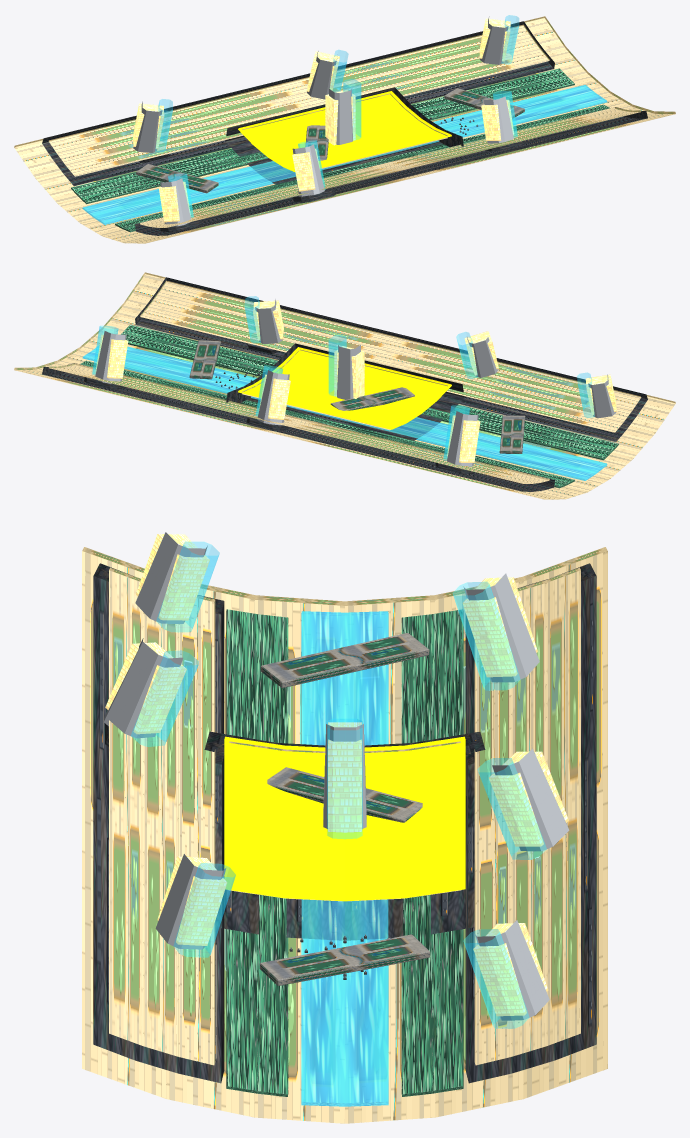
Rendered from valley_a_civic_acropolis_terraces.glb.
3 views of the same model, one above another, from view 1: azimuth 30°, elevation 25°; view 2: azimuth 150°, elevation 25°; view 3: azimuth 270°, elevation 25° (orthographic). The views are drawn at different scales.
Parts seen in each view (by area): view 1: ValleyA_CivicAcropolis_promenade_paving, ValleyA_CivicAcropolis_cliff_basalt, ValleyA_CivicAcropolis_biome_canopy, ValleyA_CivicAcropolis_led_amber, ValleyA_CivicAcropolis_water_river, ValleyA_CivicAcropolis_aero_white, ValleyA_CivicAcropolis_window_warm_amber, ValleyA_CivicAcropolis_glass_cyan, ValleyA_CivicAcropolis_copper_bridge; view 2: ValleyA_CivicAcropolis_promenade_paving, ValleyA_CivicAcropolis_cliff_basalt, ValleyA_CivicAcropolis_biome_canopy, ValleyA_CivicAcropolis_led_amber, ValleyA_CivicAcropolis_water_river, ValleyA_CivicAcropolis_aero_white, ValleyA_CivicAcropolis_window_warm_amber, ValleyA_CivicAcropolis_glass_cyan, ValleyA_CivicAcropolis_copper_bridge; view 3: ValleyA_CivicAcropolis_promenade_paving, ValleyA_CivicAcropolis_cliff_basalt, ValleyA_CivicAcropolis_biome_canopy, ValleyA_CivicAcropolis_led_amber, ValleyA_CivicAcropolis_glass_cyan, ValleyA_CivicAcropolis_water_river, ValleyA_CivicAcropolis_window_warm_amber, ValleyA_CivicAcropolis_aero_white, ValleyA_CivicAcropolis_copper_bridge.
Boxes of the visible parts, x1,y1,x2,y2 form: ValleyA_CivicAcropolis_promenade_paving: (14,16,675,243); ValleyA_CivicAcropolis_cliff_basalt: (42,21,647,235); ValleyA_CivicAcropolis_biome_canopy: (71,68,609,232); ValleyA_CivicAcropolis_led_amber: (238,91,451,171); ValleyA_CivicAcropolis_water_river: (82,85,607,224); ValleyA_CivicAcropolis_aero_white: (133,16,513,226); ValleyA_CivicAcropolis_window_warm_amber: (133,18,514,222); ValleyA_CivicAcropolis_glass_cyan: (155,15,518,217); ValleyA_CivicAcropolis_copper_bridge: (136,88,524,193); ValleyA_CivicAcropolis_promenade_paving: (14,272,675,499); ValleyA_CivicAcropolis_cliff_basalt: (42,277,647,491); ValleyA_CivicAcropolis_biome_canopy: (80,324,618,488); ValleyA_CivicAcropolis_led_amber: (238,347,451,429); ValleyA_CivicAcropolis_water_river: (82,345,607,480); ValleyA_CivicAcropolis_aero_white: (95,299,616,467); ValleyA_CivicAcropolis_window_warm_amber: (95,300,616,462); ValleyA_CivicAcropolis_glass_cyan: (92,296,594,460); ValleyA_CivicAcropolis_copper_bridge: (189,340,525,453); ValleyA_CivicAcropolis_promenade_paving: (82,547,607,1123); ValleyA_CivicAcropolis_cliff_basalt: (93,563,596,1083); ValleyA_CivicAcropolis_biome_canopy: (226,609,463,1096); ValleyA_CivicAcropolis_led_amber: (224,736,465,901); ValleyA_CivicAcropolis_glass_cyan: (131,541,546,1028); ValleyA_CivicAcropolis_water_river: (301,611,388,1106); ValleyA_CivicAcropolis_window_warm_amber: (105,534,568,1016); ValleyA_CivicAcropolis_aero_white: (103,532,569,1020); ValleyA_CivicAcropolis_copper_bridge: (259,632,430,985).
Size of the model in its own units: 380 by 50.48 by 163.
Materials: 10 (10 with a texture image).
